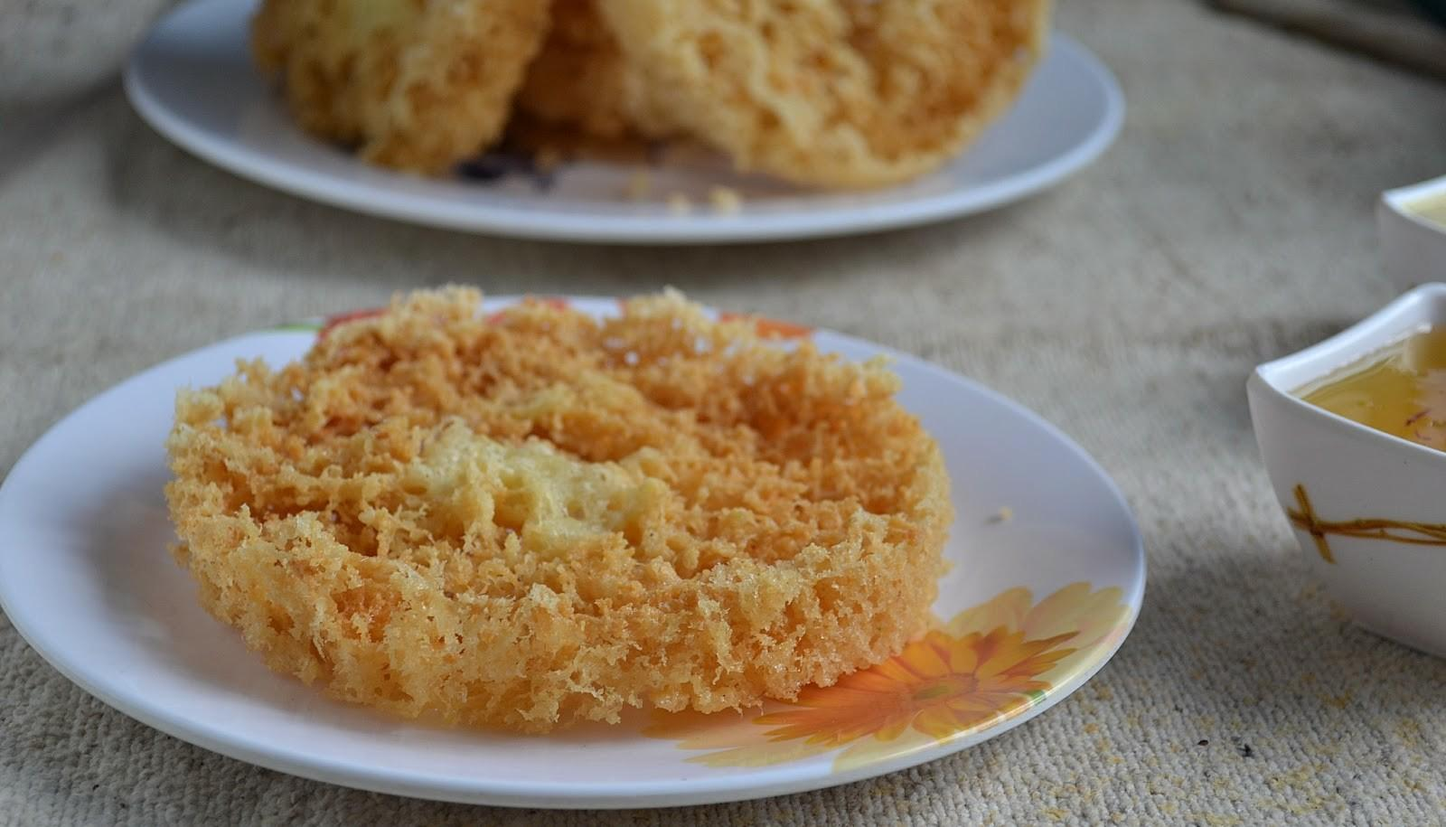Ghevar: (163, 281, 949, 728)
